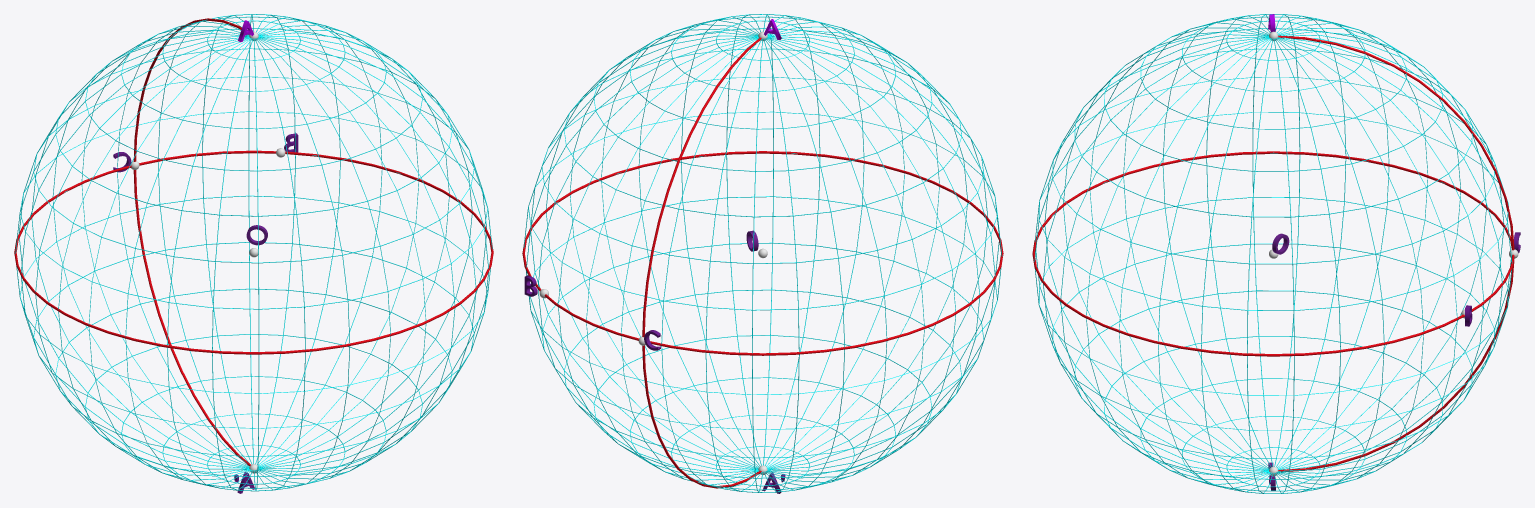
The picture shows the model from 3 angles, left to right: view 1: azimuth 30°, elevation 25°; view 2: azimuth 150°, elevation 25°; view 3: azimuth 270°, elevation 25°; orthographic projection.
Visible parts, largest first — view 1: Sphere, Torus.003, Torus.001; view 2: Sphere, Torus.003, Torus.001; view 3: Sphere, Torus.003, Torus.001.
Boxes of the visible parts, bbox=[...] form: Sphere: bbox=[15, 14, 492, 491]; Torus.003: bbox=[14, 150, 493, 354]; Torus.001: bbox=[133, 18, 250, 465]; Sphere: bbox=[523, 14, 1002, 492]; Torus.003: bbox=[522, 151, 1003, 355]; Torus.001: bbox=[642, 37, 761, 488]; Sphere: bbox=[1034, 14, 1512, 493]; Torus.003: bbox=[1032, 151, 1514, 356]; Torus.001: bbox=[1278, 35, 1514, 471].
Bounding box in the file's own units: 2.01 × 2.17 × 2.03.
